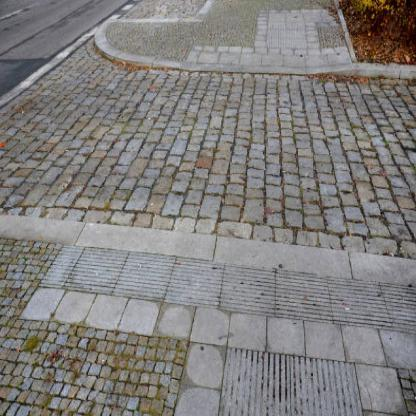podotacti: (37, 242, 415, 334)
